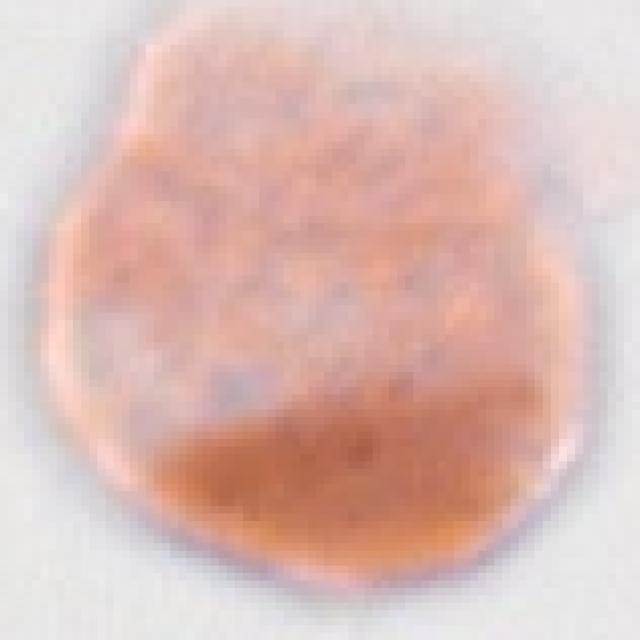nucleus: (147, 362, 559, 596)
